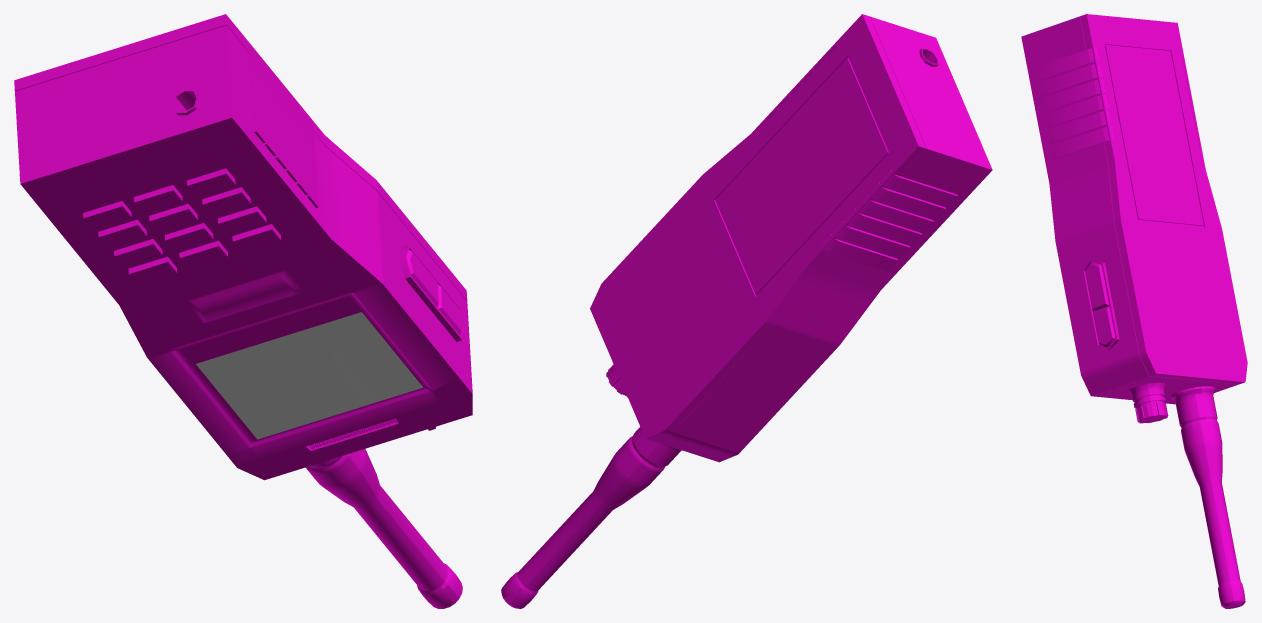
The picture shows the model from 3 angles, left to right: view 1: azimuth 30°, elevation 25°; view 2: azimuth 150°, elevation 25°; view 3: azimuth 270°, elevation 25°; orthographic projection. The views are drawn at different scales.
Visible parts, largest first — view 1: radio_low_poly; view 2: radio_low_poly; view 3: radio_low_poly.
Boxes of the visible parts, x1,y1,x2,y2 form: radio_low_poly: [14, 14, 472, 608]; radio_low_poly: [501, 14, 992, 608]; radio_low_poly: [1021, 14, 1247, 608].
Bounding box in the file's own units: 1.86 × 2.52 × 1.05.
